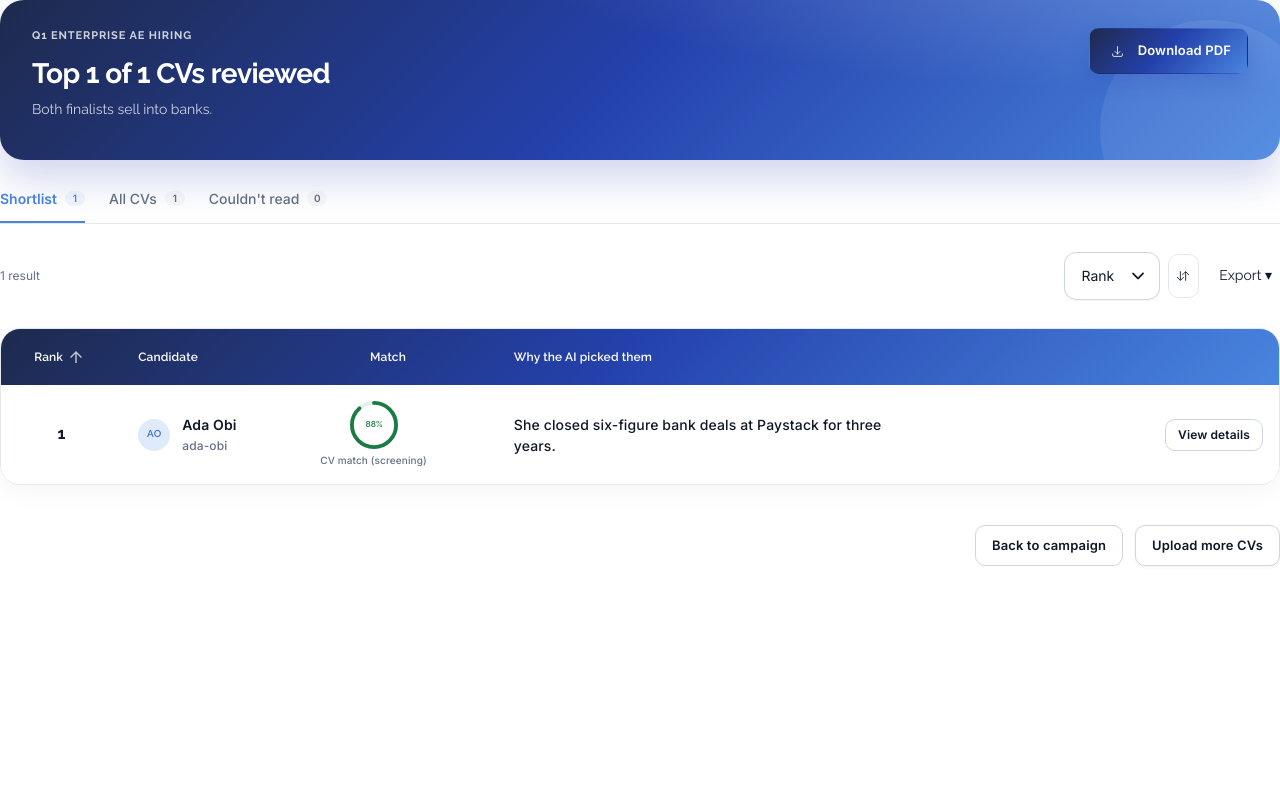
Test case: RunResults once finished › opens the details drawer with the full reason and contact details
Click the button "View details": (1214, 434) [1165,418,1263,450]
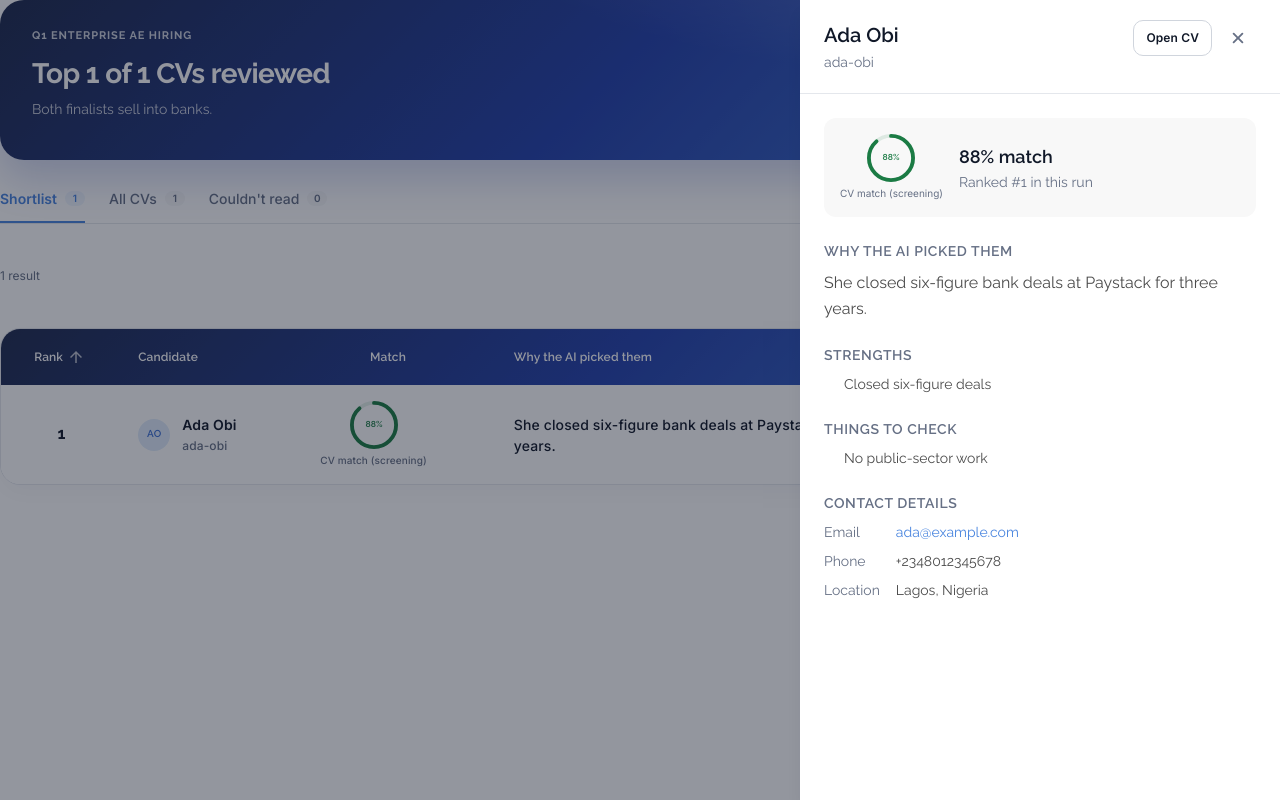
Expected: the heading "Why the AI picked them" is shown, [824,243,1013,259]
Expected: the link "ada@example.com" is shown, [896,524,1019,540]
Expected: the list item "Closed six-figure deals" is shown, [844,376,991,392]
